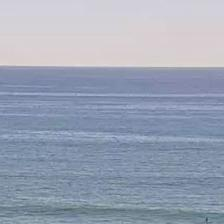surfer: (204, 217, 209, 222)
